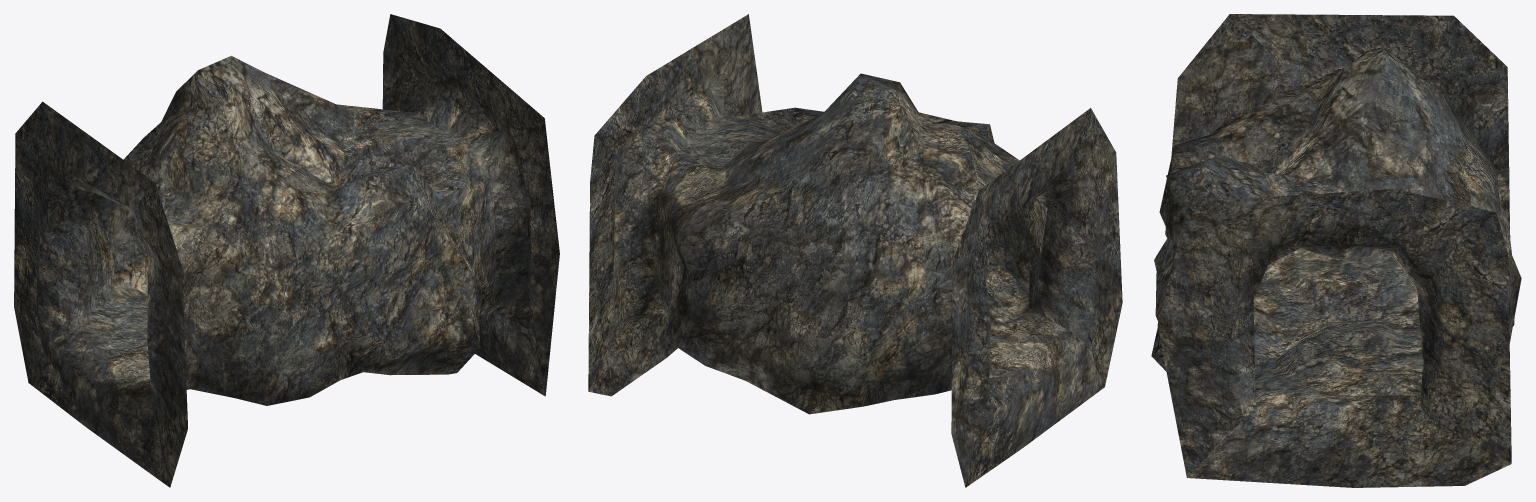
The model's file is Module6_LOD1.fbx.
The picture shows the model from 3 angles, left to right: view 1: azimuth 30°, elevation 25°; view 2: azimuth 150°, elevation 25°; view 3: azimuth 270°, elevation 25°; orthographic projection.
Visible parts, largest first — view 1: cave_el6_900_Group4964; view 2: cave_el6_900_Group4964; view 3: cave_el6_900_Group4964.
Boxes of the visible parts, x1,y1,x2,y2 form: cave_el6_900_Group4964: (14, 14, 559, 487); cave_el6_900_Group4964: (588, 14, 1122, 487); cave_el6_900_Group4964: (1151, 14, 1521, 487).
Bounding box in the file's own units: 10.64 × 8.72 × 8.93.
